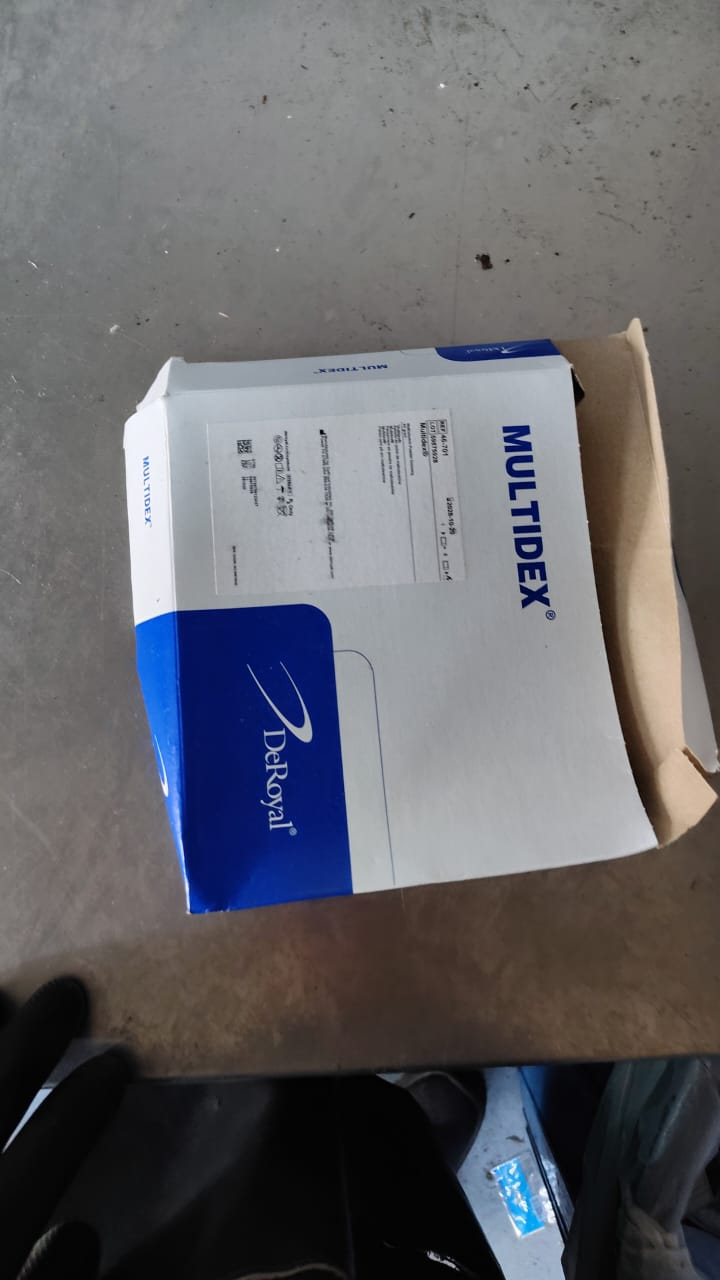Carton: (123, 318, 716, 914)
